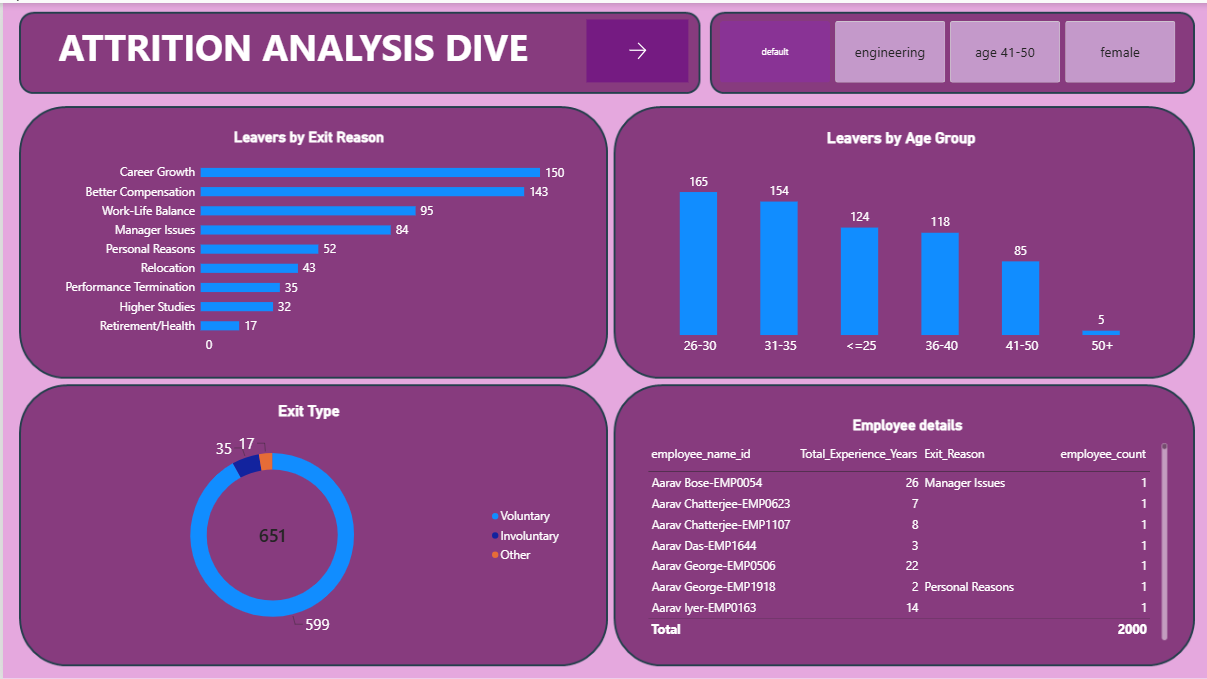

The dashboard page shown, as its layout file describes it:
{"tool":"powerbi","page":{"name":"drill through","canvas":[1920,1080],"ordinal":1},"visuals":[{"type":"tableEx","title":"Employee details","fields":{"Values":["Dim_Employee.employee_name_id","Dim_Employee.Total_Experience_Years","Dim_Employee.Exit_Reason","calculated_Table.employee_count"]},"box":[1009.1,643.5,858.9,385.5],"z":0},{"type":"clusteredBarChart","title":"Leavers by Exit Reason","fields":{"Category":["Dim_Employee.Exit_Reason"],"Y":["calculated_Table.attrition_count"]},"box":[65.2,187.1,844.7,394],"z":1000},{"type":"clusteredColumnChart","title":"Leavers by Age Group","fields":{"Category":["Dim_Employee.Age_Group"],"Y":["calculated_Table.attrition_count"]},"box":[1009.1,187.1,839.1,394],"z":2000},{"type":"donutChart","title":" Exit Type","fields":{"Category":["Dim_Employee.Exit_Type"],"Y":["calculated_Table.attrition_count"]},"box":[64.4,620.3,844.6,410.4],"z":3000},{"type":"bookmarkNavigator","box":[1141,28.9,725.1,98.2],"z":4001},{"type":"actionButton","box":[928.1,26.2,162.2,100.2],"z":4002},{"type":"textbox","box":[88.3,28.6,801.7,97.8],"z":4003}]}

Visuals, with their boxes in screenshot pixels (x1, y1, x2, y2), scaled from the page's 1920x1080 canvas onto the 1207x679 screenshot:
"Employee details" tableEx: pyautogui.locateOnScreen(634, 405, 1174, 647)
"Leavers by Exit Reason" clusteredBarChart: pyautogui.locateOnScreen(41, 118, 572, 365)
"Leavers by Age Group" clusteredColumnChart: pyautogui.locateOnScreen(634, 118, 1162, 365)
" Exit Type" donutChart: pyautogui.locateOnScreen(40, 390, 571, 648)
bookmarkNavigator: pyautogui.locateOnScreen(717, 18, 1173, 80)
actionButton: pyautogui.locateOnScreen(583, 16, 685, 79)
textbox: pyautogui.locateOnScreen(56, 18, 559, 79)
